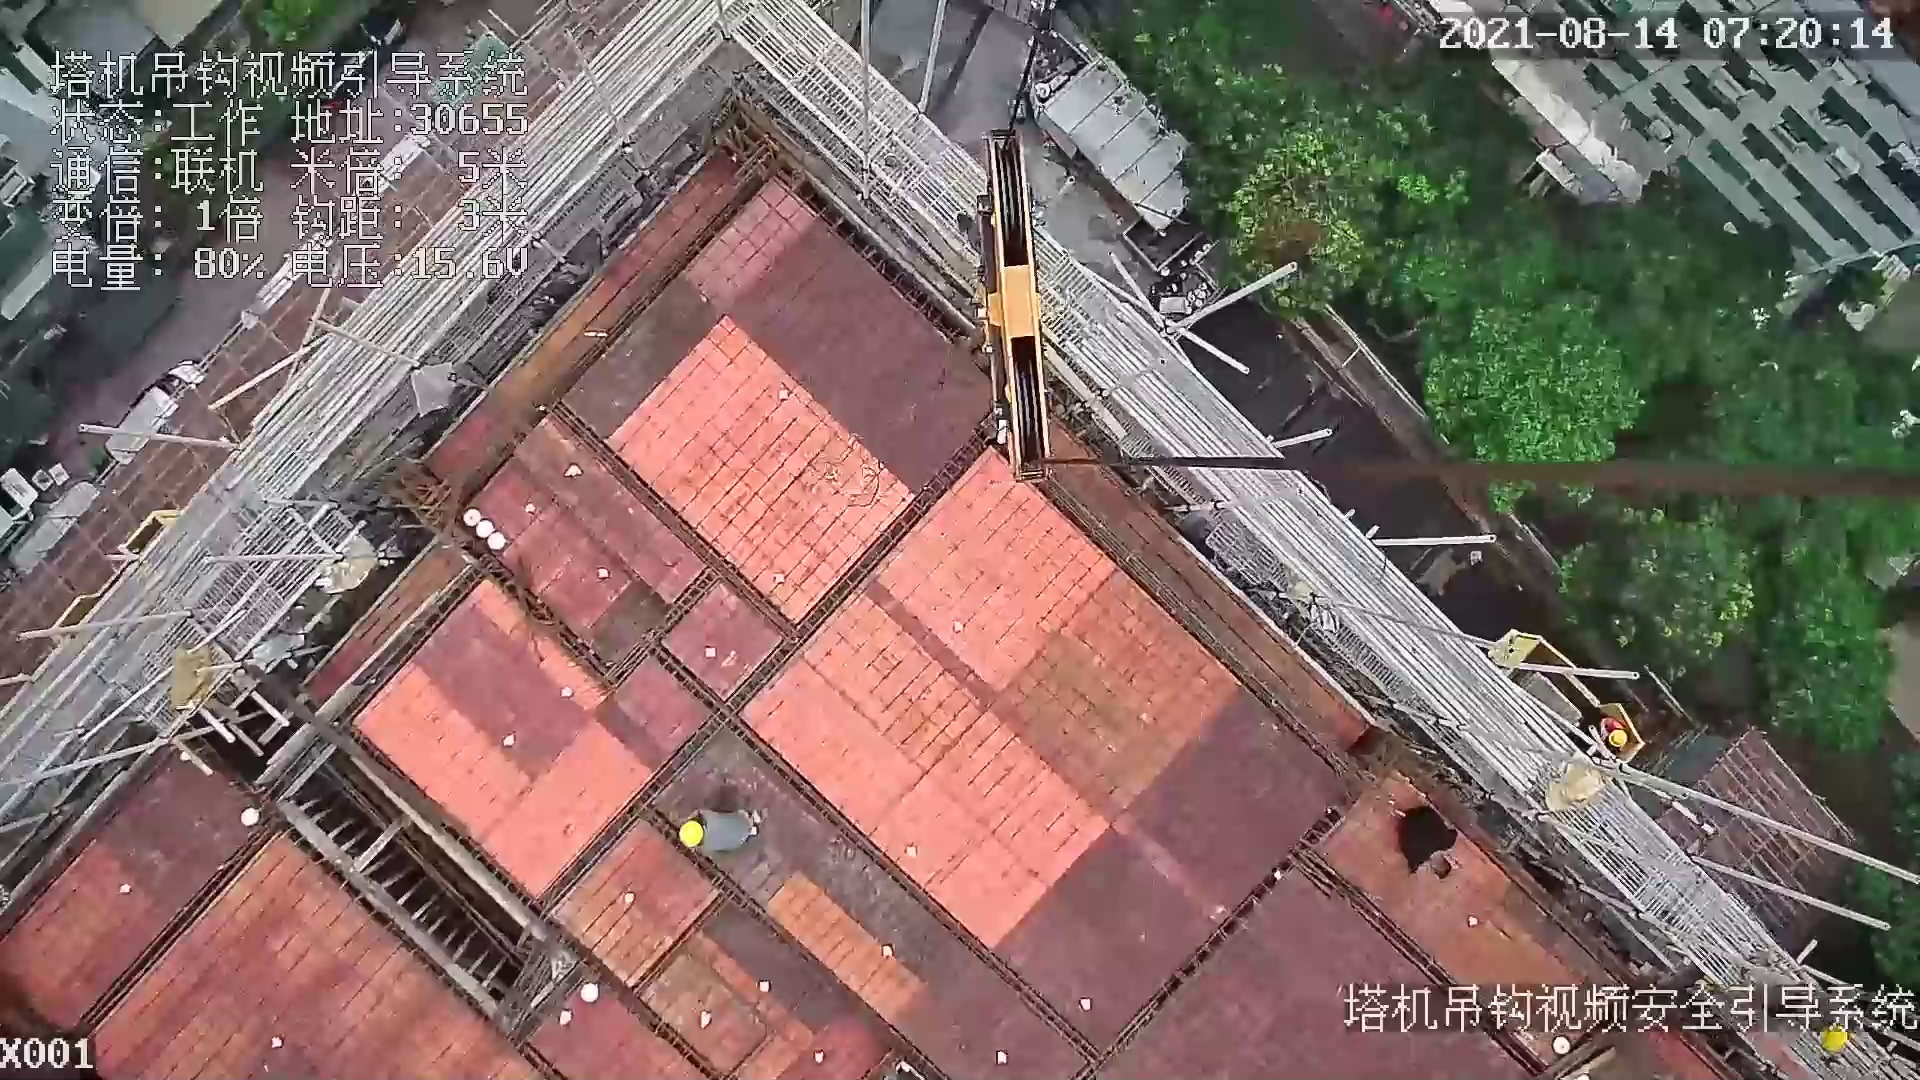helmet: (680, 816, 707, 853), (1606, 730, 1628, 748)
hook: (958, 124, 1059, 480)
person: (674, 799, 772, 860), (1586, 703, 1628, 754)
